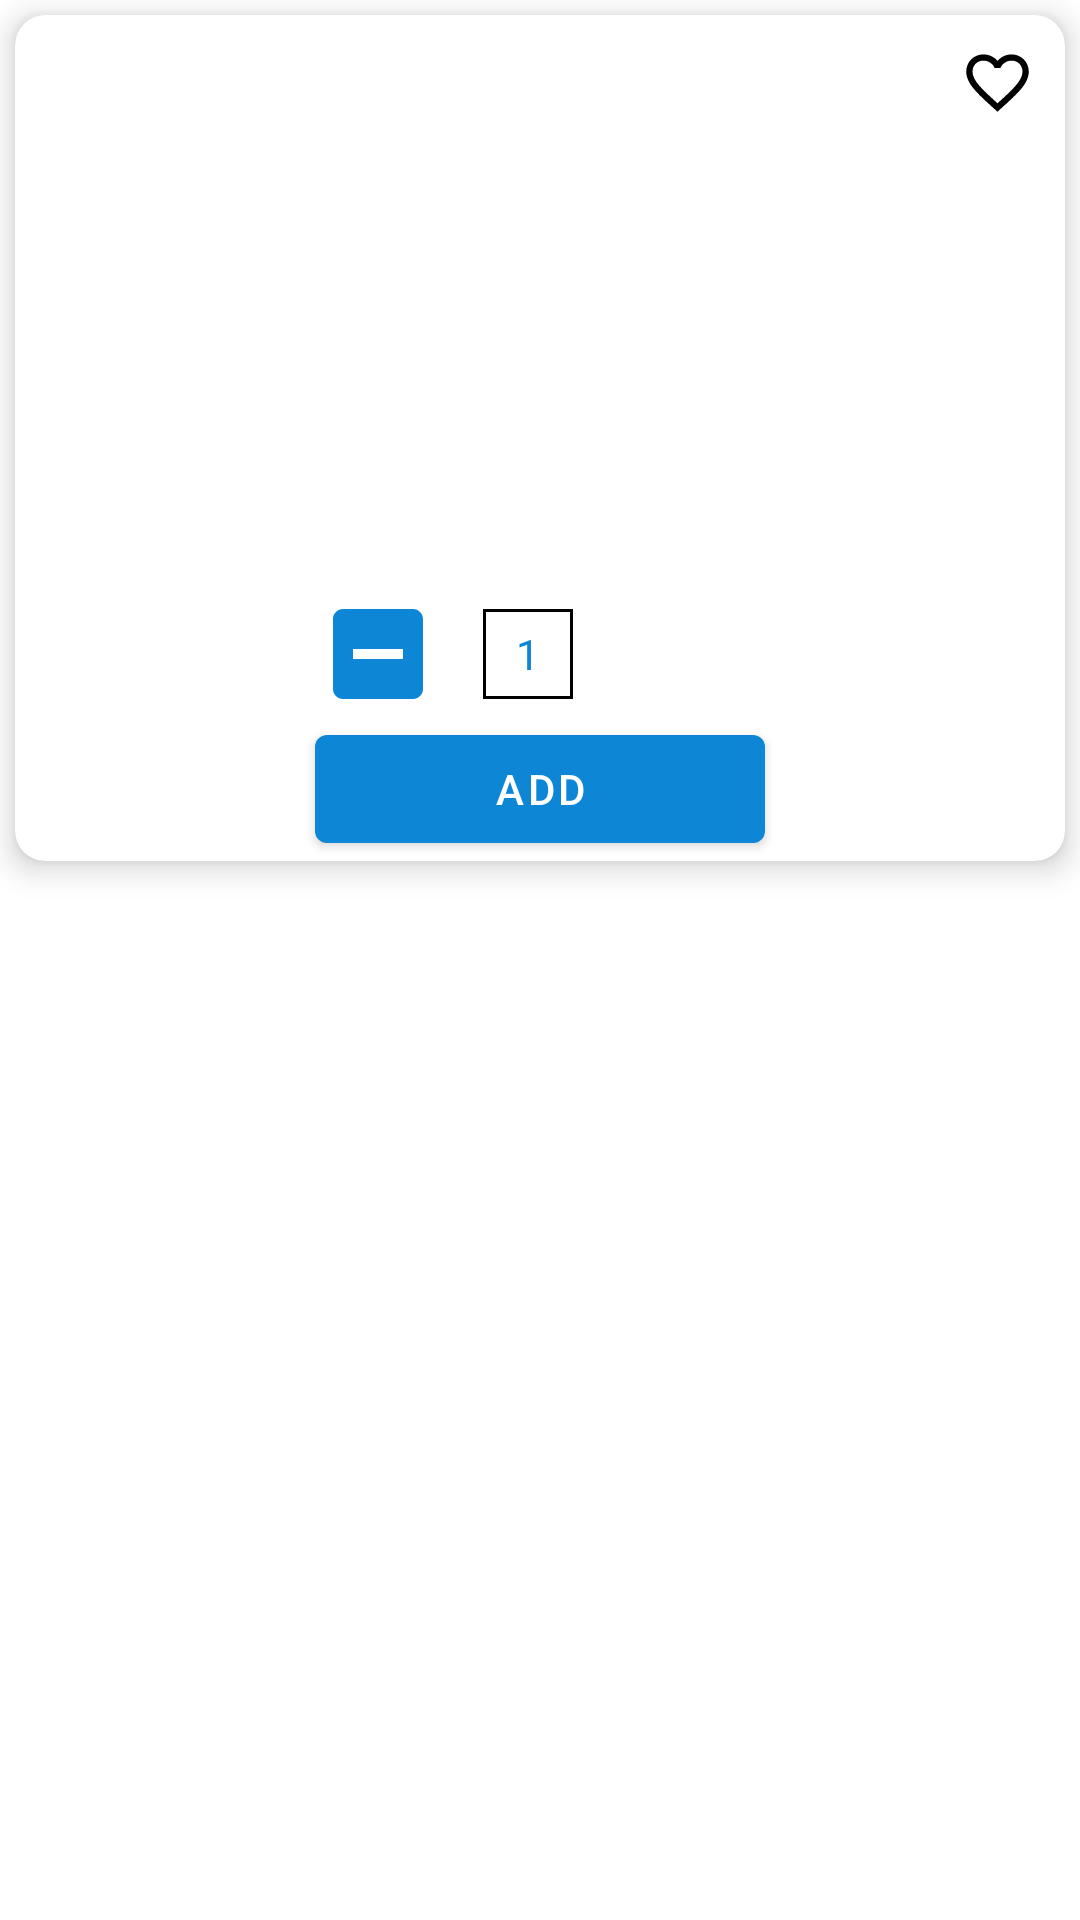

Where icons sit on this 1080w x 1920h app screen, as (x1, y1, x2, y2):
favorite selection: (966, 54, 1029, 112)
minus sign: (333, 609, 423, 699)
